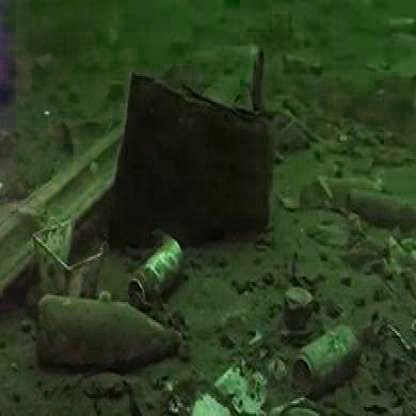can: (298, 329, 396, 405), (123, 242, 195, 311)
